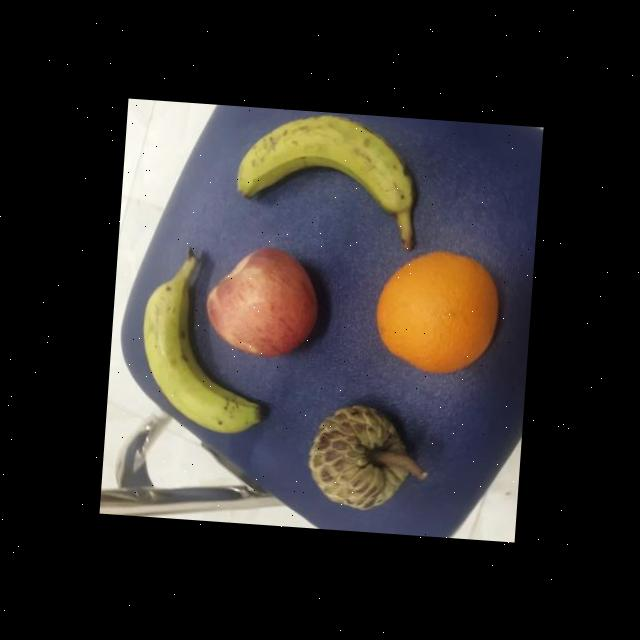Sakya fruit: (298, 393, 434, 521)
apple: (198, 241, 328, 364)
banana: (230, 105, 427, 248), (132, 251, 276, 439)
orange: (361, 243, 507, 378)
